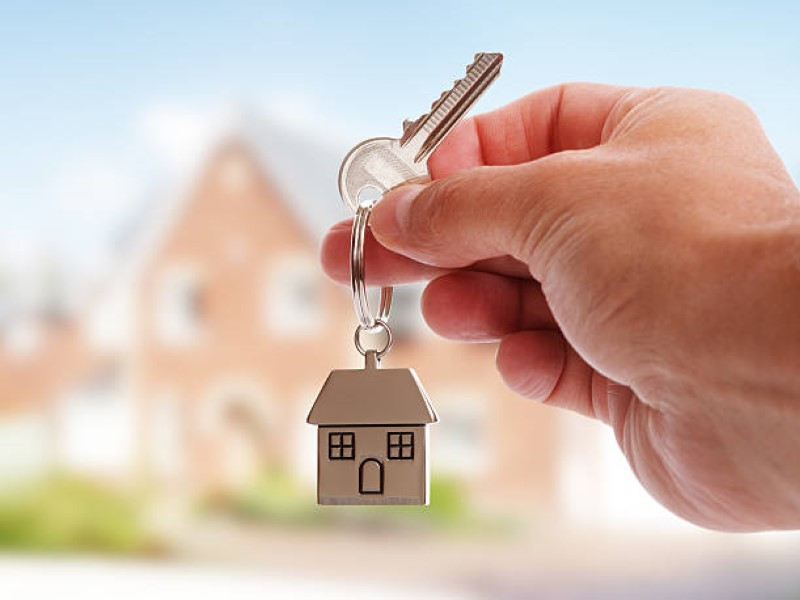key: (334, 46, 506, 227)
